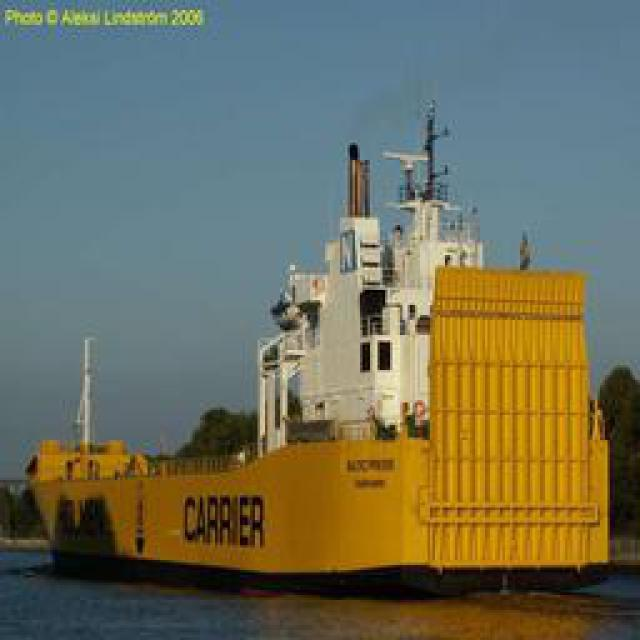Ship: (16, 95, 631, 590)
